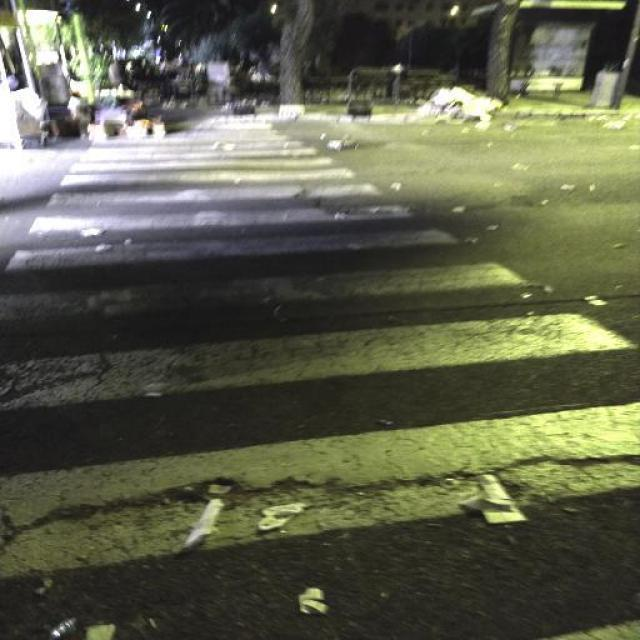crosswalk: (0, 120, 640, 582)
